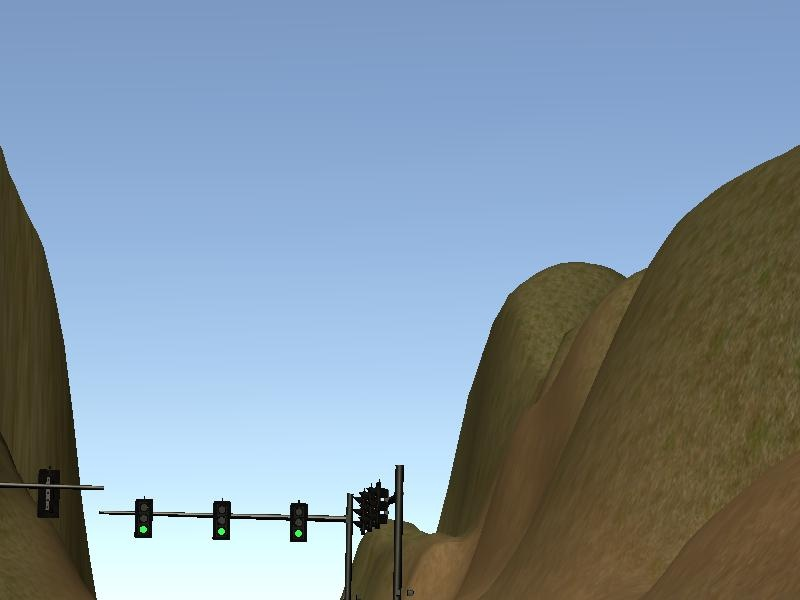green: (134, 498, 152, 538), (290, 505, 307, 542), (214, 502, 230, 540)
